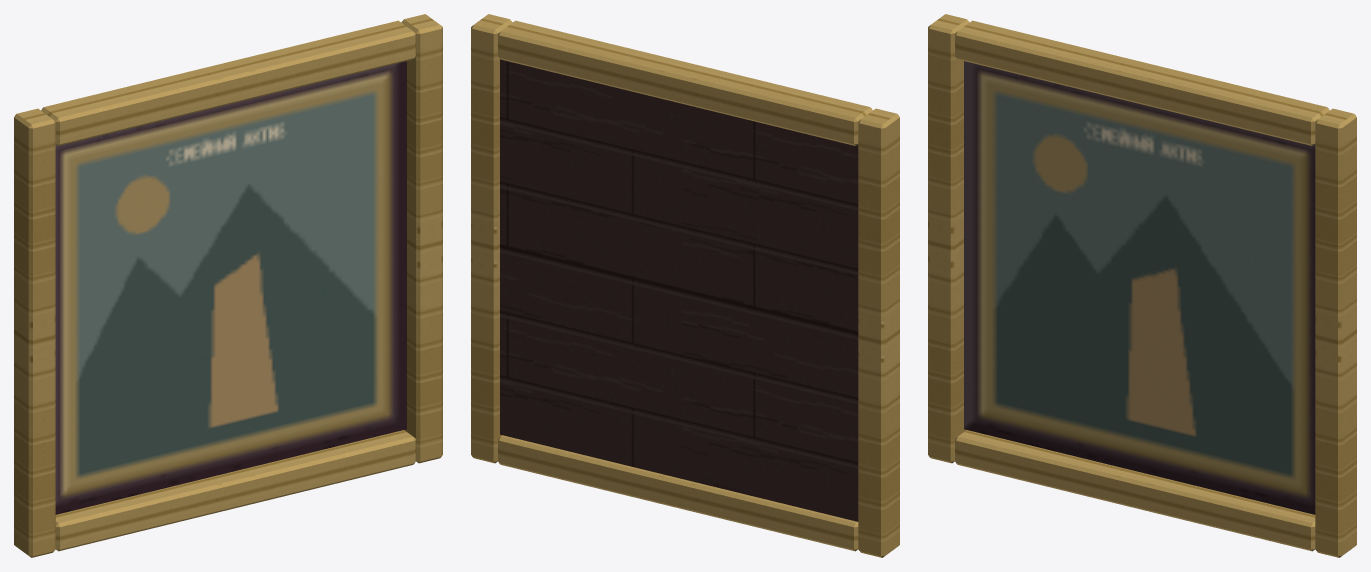
File: MD_37_LargePainting.fbx
The picture shows the model from 3 angles, left to right: view 1: azimuth 30°, elevation 25°; view 2: azimuth 150°, elevation 25°; view 3: azimuth 330°, elevation 25°; orthographic projection.
Parts seen in each view (by area): view 1: MD_37_LargePainting_carved_frame_inset, MD_37_LargePainting_carved_frame_upright, MD_37_LargePainting_carved_frame_cross.001, MD_37_LargePainting_carved_frame_upright.001, MD_37_LargePainting_carved_frame_cross; view 2: MD_37_LargePainting_carved_frame_inset, MD_37_LargePainting_carved_frame_upright, MD_37_LargePainting_carved_frame_cross.001, MD_37_LargePainting_carved_frame_upright.001, MD_37_LargePainting_carved_frame_cross; view 3: MD_37_LargePainting_carved_frame_inset, MD_37_LargePainting_carved_frame_upright.001, MD_37_LargePainting_carved_frame_cross.001, MD_37_LargePainting_carved_frame_upright, MD_37_LargePainting_carved_frame_cross.
Boxes of the visible parts, x1=… form: MD_37_LargePainting_carved_frame_inset: x1=55, y1=61, x2=406, y2=514; MD_37_LargePainting_carved_frame_upright: x1=14, y1=108, x2=55, y2=557; MD_37_LargePainting_carved_frame_cross.001: x1=41, y1=20, x2=415, y2=145; MD_37_LargePainting_carved_frame_upright.001: x1=401, y1=14, x2=442, y2=463; MD_37_LargePainting_carved_frame_cross: x1=55, y1=430, x2=415, y2=551; MD_37_LargePainting_carved_frame_inset: x1=500, y1=59, x2=858, y2=521; MD_37_LargePainting_carved_frame_upright: x1=858, y1=108, x2=899, y2=557; MD_37_LargePainting_carved_frame_cross.001: x1=498, y1=20, x2=872, y2=145; MD_37_LargePainting_carved_frame_upright.001: x1=471, y1=14, x2=512, y2=463; MD_37_LargePainting_carved_frame_cross: x1=498, y1=435, x2=858, y2=551; MD_37_LargePainting_carved_frame_inset: x1=964, y1=61, x2=1315, y2=514; MD_37_LargePainting_carved_frame_upright.001: x1=1315, y1=108, x2=1356, y2=557; MD_37_LargePainting_carved_frame_cross.001: x1=955, y1=20, x2=1329, y2=145; MD_37_LargePainting_carved_frame_upright: x1=928, y1=14, x2=969, y2=463; MD_37_LargePainting_carved_frame_cross: x1=955, y1=430, x2=1315, y2=551.
Size of the model in its own units: 1.2 by 1.2 by 0.09.
3 materials, 3 textured.
